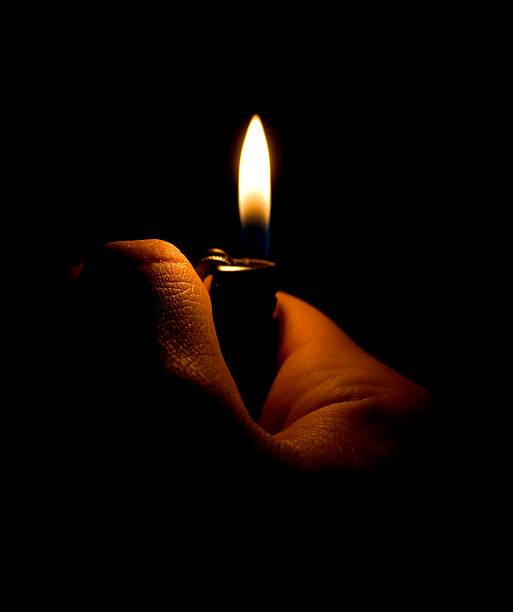Fire: (234, 104, 284, 256)
